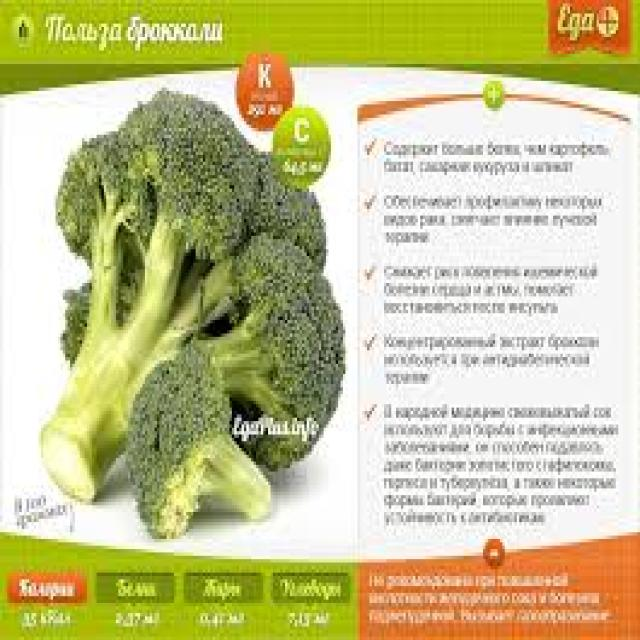broccoli: (29, 83, 368, 553), (129, 345, 299, 538)
